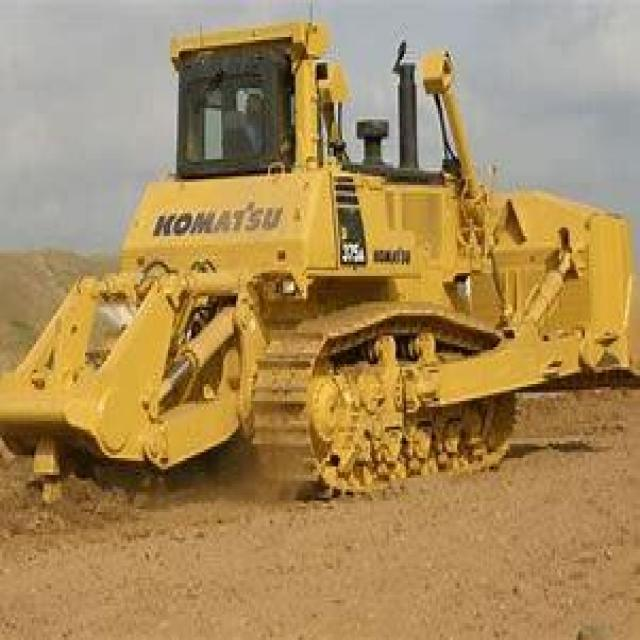Bulldozer: (13, 14, 638, 529)
